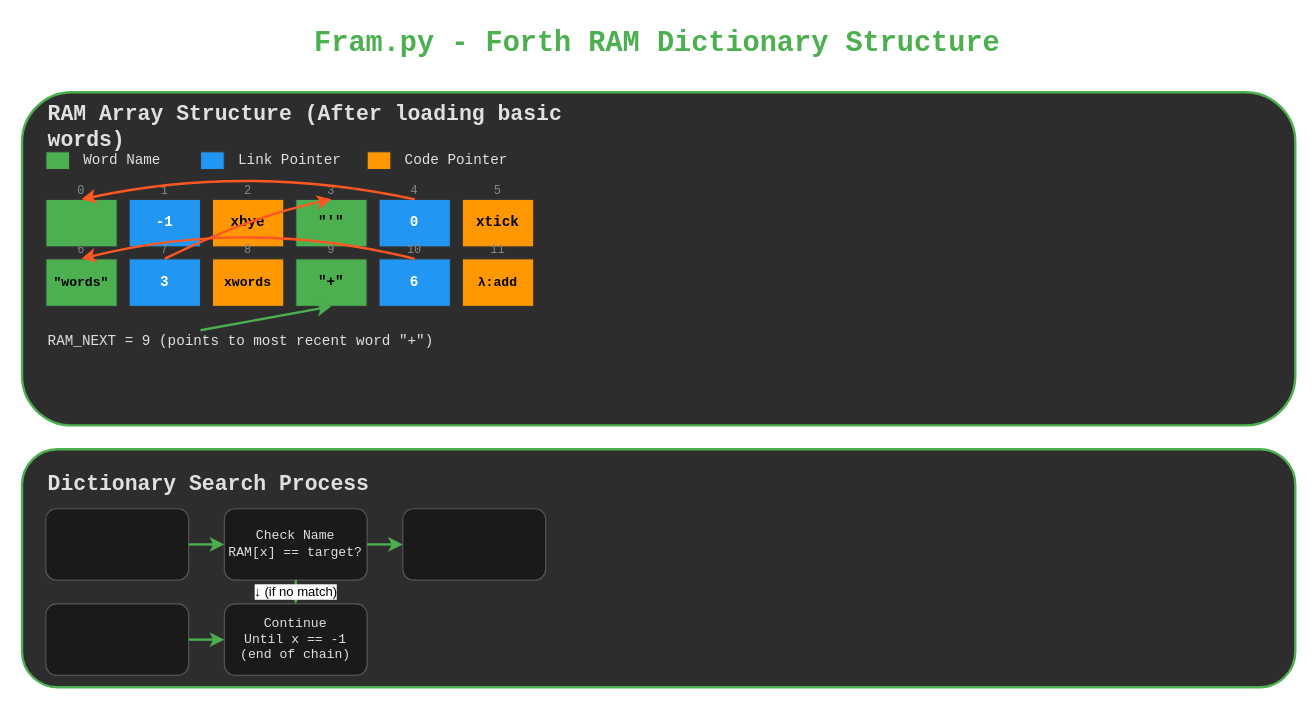
The diagram is 1316 pixels wide and 708 high, and some of its shapes have lost their labels. Here are the shapes that lost their labels. From the top down, the centre of each, then its label:
the point at 81,222: "bye"
the point at 117,544: Start Search x = RAM_NEXT (9)
the point at 474,544: If Match Return x + 2 (execution token)
the point at 117,639: Follow Link x = RAM[x + 1]
